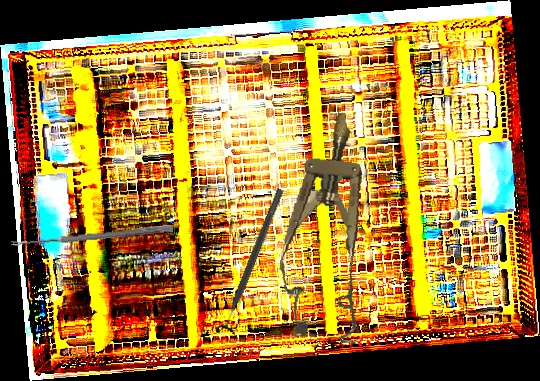Fixation Ring: (212, 184, 293, 341)
Speculum: (271, 107, 385, 345)
Surgical Spoon: (11, 223, 173, 249)
